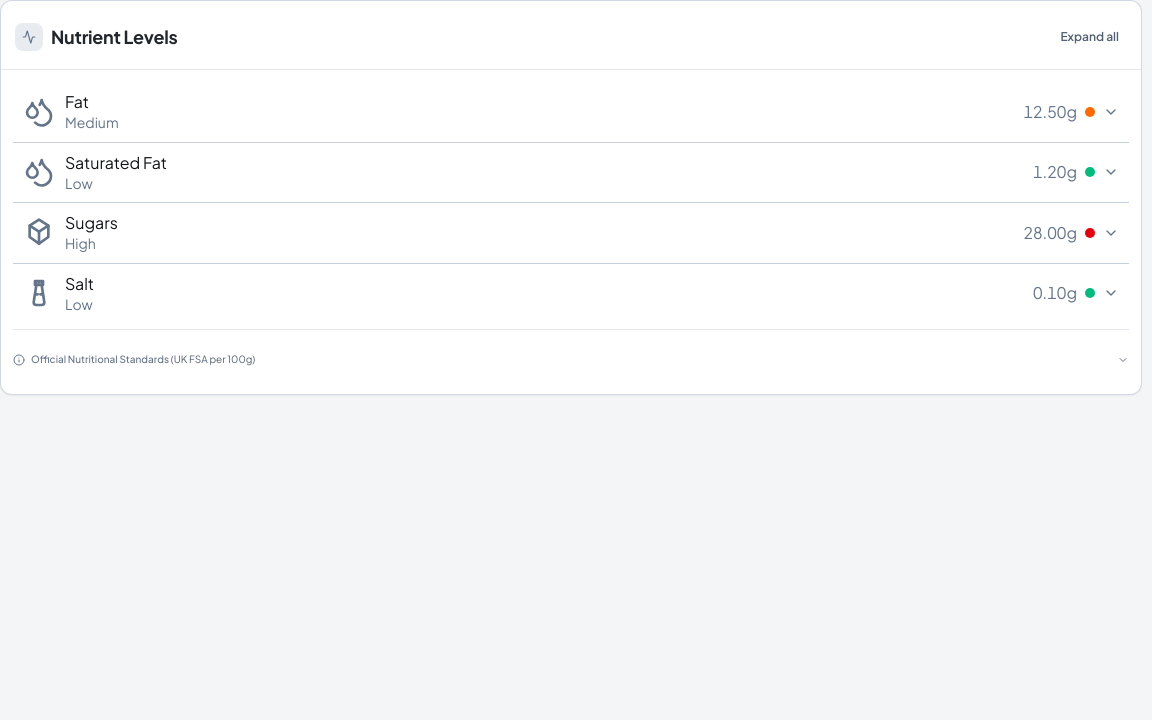
Test: NutrientLevelsCard (Yuka-style) › does not display duplicate subtitle in header and toggles official standards
The width and height of the screenshot is (1152, 720).
Expected: the text "Nutritional benchmark standards were established" is not shown
Expected: the link "official UK guidance" is not shown
# Click to expand standards table
What coordinates should you click on to do the following:
click the button "Official Nutritional Standards (UK FSA per 100g)"
I would click on:
 (100, 359)
Its box is [13,338,1129,382].
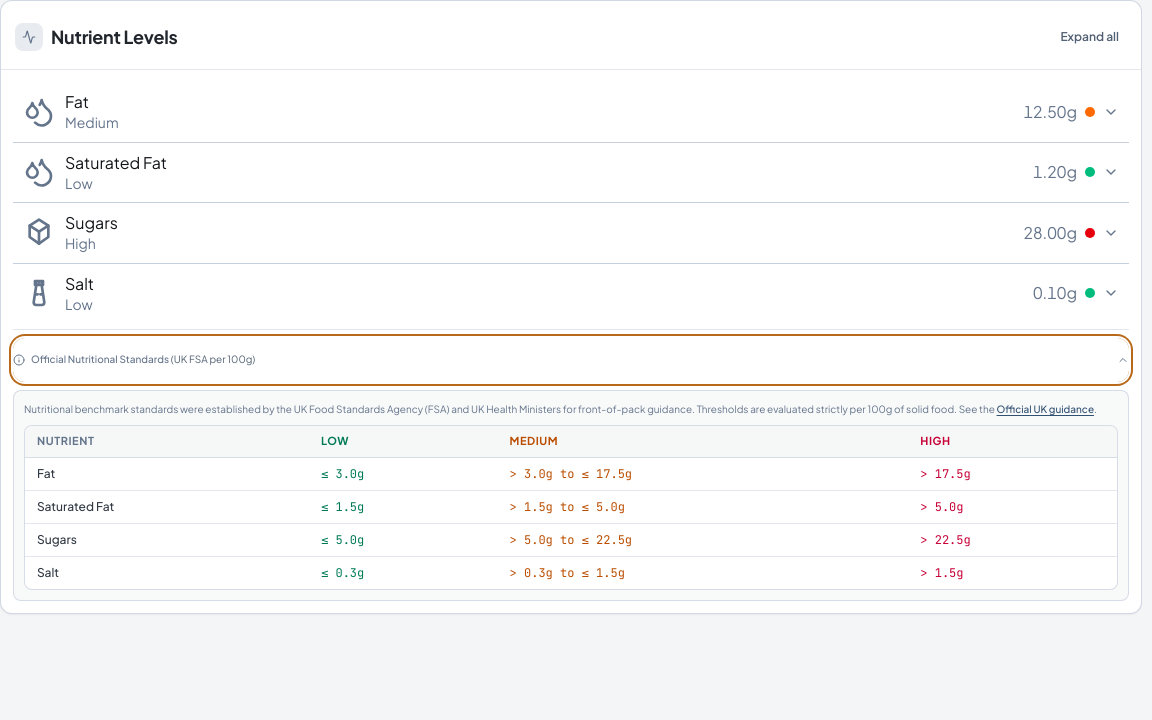
Expected: the text "Nutritional benchmark standards were established" is shown, [24,403,957,415]
Expected: the text "> 3.0g to ≤ 17.5g" is shown, [498,457,908,490]
# Click again to collapse
What coordinates should you click on to do the following:
click the button "Official Nutritional Standards (UK FSA per 100g)"
I would click on:
 (100, 359)
Its box is [13,338,1129,382].
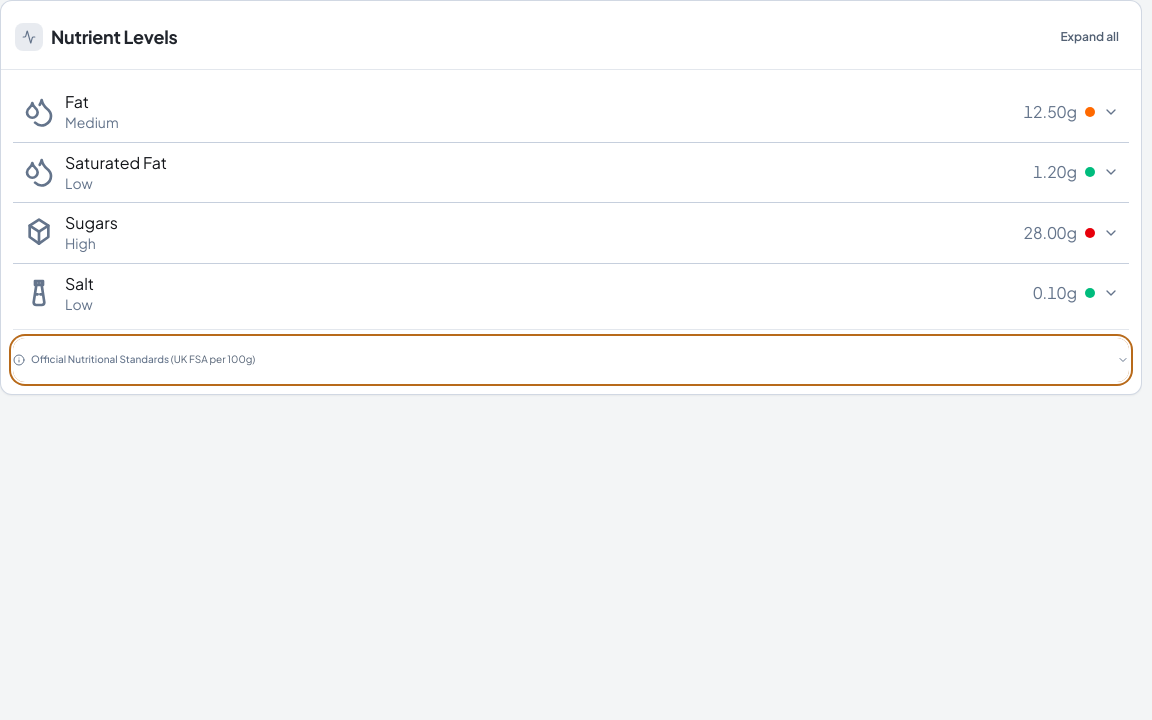
Expected: the text "Nutritional benchmark standards were established" is gone
